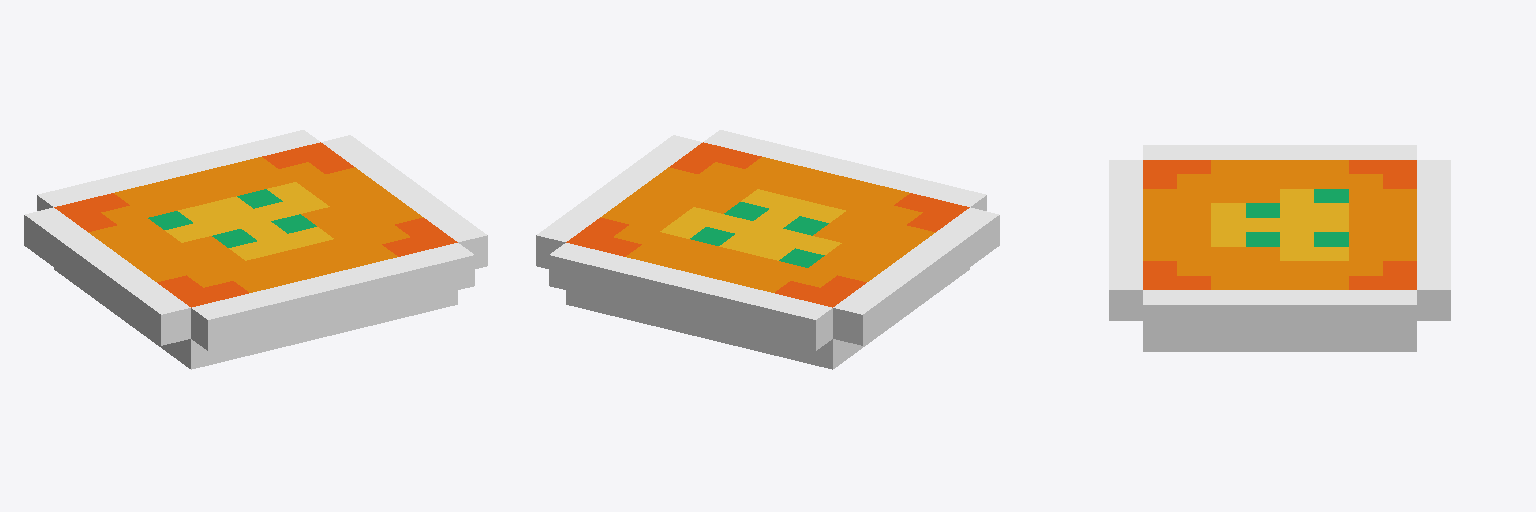
3 views of the same model, side by side, from view 1: azimuth 30°, elevation 25°; view 2: azimuth 150°, elevation 25°; view 3: azimuth 270°, elevation 25° (orthographic).
Parts seen in each view (by area): view 1: object 1; view 2: object 1; view 3: object 1.
Boxes of the visible parts, x1=… form: object 1: x1=24, y1=130, x2=487, y2=369; object 1: x1=536, y1=130, x2=999, y2=369; object 1: x1=1109, y1=145, x2=1450, y2=351.
Size of the model in its own units: 1.1 by 0.2 by 1.
1 materials, 1 textured.